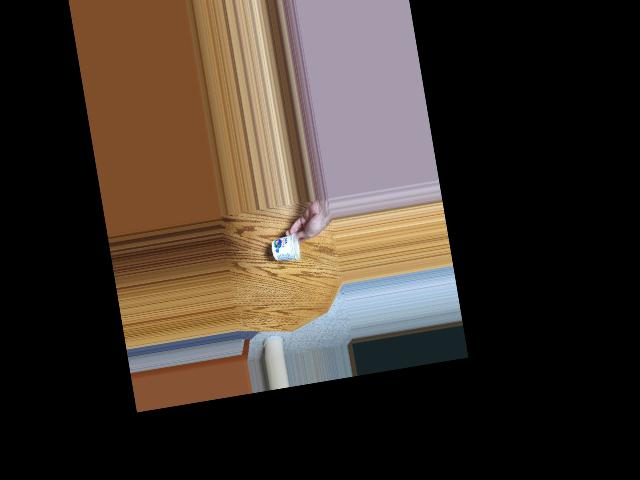cotage: (269, 226, 307, 266)
